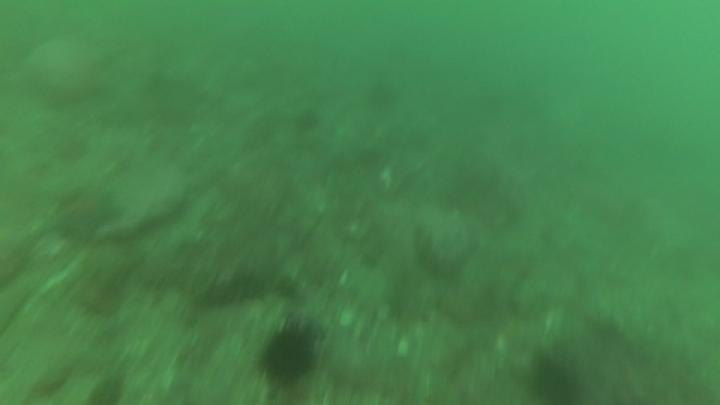echinus: (256, 323, 322, 387), (529, 353, 582, 405), (366, 80, 402, 116), (291, 106, 322, 138)
